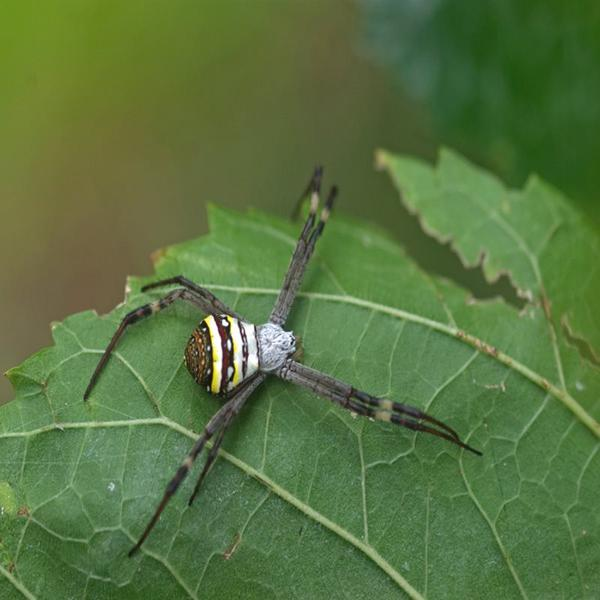St Andrew's Cross Spider: (86, 176, 474, 542)
